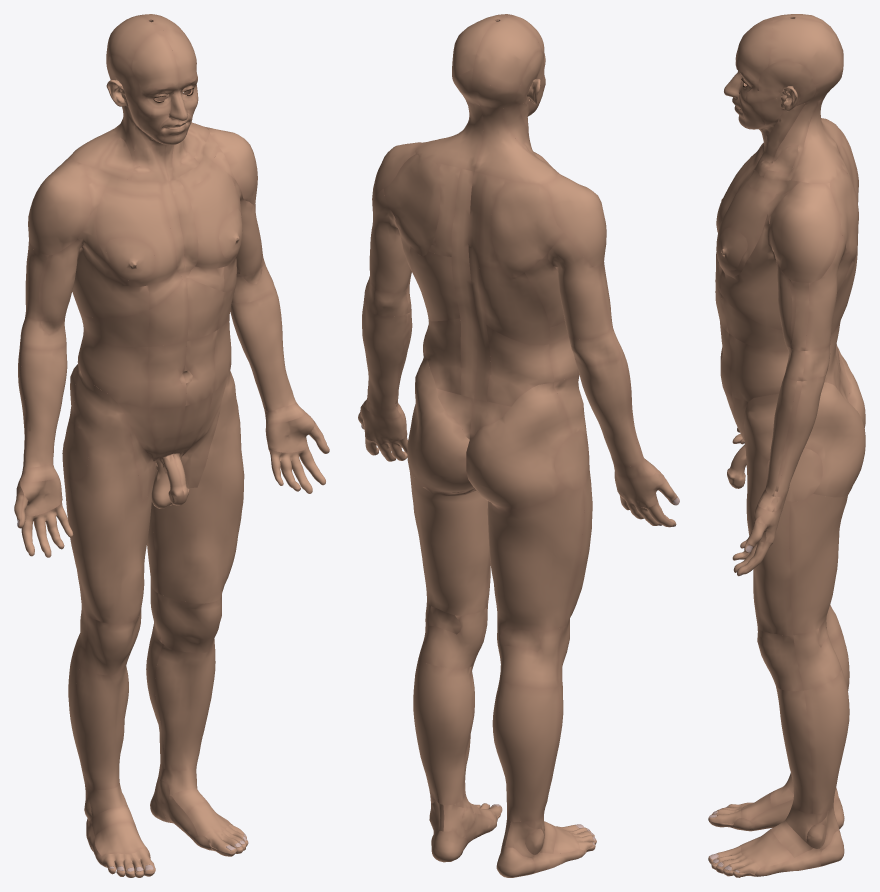
File: skin.glb
The picture shows the model from 3 angles, left to right: view 1: azimuth 30°, elevation 25°; view 2: azimuth 150°, elevation 25°; view 3: azimuth 270°, elevation 25°; orthographic projection.
Visible parts, largest first — view 1: Anterior_region_of_thigh_r, Anterior_region_of_thigh_l, Anterior_region_of_leg_l, Anterior_region_of_leg_r, Pectoral_region_r, Deltoid_region_r, Anterior_region_of_forearm_l, Anterior_region_of_forearm_r, Lateral_region_of_thorax_r, Lateral_region_of_abdomen_r, Pectoral_region_l, Anterior_region_of_knee_l (+48 smaller); view 2: Posterior_region_of_thigh_r, Gluteal_region_r, Posterior_region_of_thigh_l, Posterior_region_of_leg_r, Posterior_region_of_leg_l, Gluteal_region_l, Scapular_region_r, Posterior_region_of_arm_r, Infrascapular_region_r, Scapular_region_l, Posterior_region_of_forearm_r, Vertebral_region_l (+35 smaller); view 3: Anterior_region_of_thigh_l, Posterior_region_of_thigh_l, Deltoid_region_l, Gluteal_region_l, Posterior_region_of_leg_l, Lateral_region_of_thorax_l, Parietal_region_l, Anterior_region_of_leg_l, Lateral_region_of_abdomen_l, Pectoral_region_l, Posterior_region_of_arm_l, Posterior_region_of_neck_l (+49 smaller).
Part boxes in pixels (x1=…): Anterior_region_of_thigh_r: x1=69, y1=368, x2=156, y2=624; Anterior_region_of_thigh_l: x1=151, y1=368, x2=244, y2=603; Anterior_region_of_leg_l: x1=155, y1=643, x2=215, y2=770; Anterior_region_of_leg_r: x1=75, y1=663, x2=128, y2=789; Pectoral_region_r: x1=95, y1=187, x2=176, y2=286; Deltoid_region_r: x1=28, y1=155, x2=91, y2=255; Anterior_region_of_forearm_l: x1=231, y1=288, x2=295, y2=410; Anterior_region_of_forearm_r: x1=21, y1=344, x2=67, y2=467; Lateral_region_of_thorax_r: x1=72, y1=207, x2=149, y2=318; Lateral_region_of_abdomen_r: x1=77, y1=327, x2=148, y2=407; Pectoral_region_l: x1=185, y1=161, x2=241, y2=268; Anterior_region_of_knee_l: x1=156, y1=593, x2=221, y2=653; Posterior_region_of_thigh_r: x1=487, y1=486, x2=584, y2=632; Gluteal_region_r: x1=466, y1=382, x2=572, y2=509; Posterior_region_of_thigh_l: x1=408, y1=462, x2=490, y2=615; Posterior_region_of_leg_r: x1=492, y1=680, x2=559, y2=822; Posterior_region_of_leg_l: x1=413, y1=659, x2=472, y2=805; Gluteal_region_l: x1=407, y1=351, x2=474, y2=492; Scapular_region_r: x1=490, y1=181, x2=563, y2=277; Posterior_region_of_arm_r: x1=548, y1=232, x2=611, y2=339; Infrascapular_region_r: x1=479, y1=264, x2=550, y2=345; Scapular_region_l: x1=383, y1=154, x2=440, y2=256; Posterior_region_of_forearm_r: x1=575, y1=359, x2=645, y2=466; Vertebral_region_l: x1=451, y1=169, x2=477, y2=398; Anterior_region_of_thigh_l: x1=743, y1=393, x2=793, y2=635; Posterior_region_of_thigh_l: x1=789, y1=494, x2=847, y2=635; Deltoid_region_l: x1=769, y1=182, x2=840, y2=282; Gluteal_region_l: x1=804, y1=382, x2=865, y2=497; Posterior_region_of_leg_l: x1=804, y1=668, x2=849, y2=813; Lateral_region_of_thorax_l: x1=720, y1=214, x2=852, y2=329; Parietal_region_l: x1=768, y1=18, x2=843, y2=84; Anterior_region_of_leg_l: x1=776, y1=686, x2=812, y2=813; Lateral_region_of_abdomen_l: x1=729, y1=333, x2=788, y2=401; Pectoral_region_l: x1=716, y1=181, x2=775, y2=276; Posterior_region_of_arm_l: x1=805, y1=233, x2=845, y2=350; Posterior_region_of_neck_l: x1=791, y1=96, x2=841, y2=183.
Bounding box in the file's own units: 0.6801 × 1.71 × 0.294.
